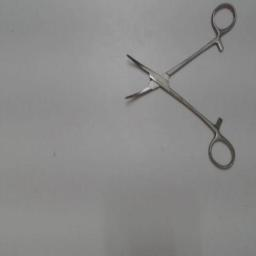Crile Artery Forceps: (121, 1, 237, 175)
